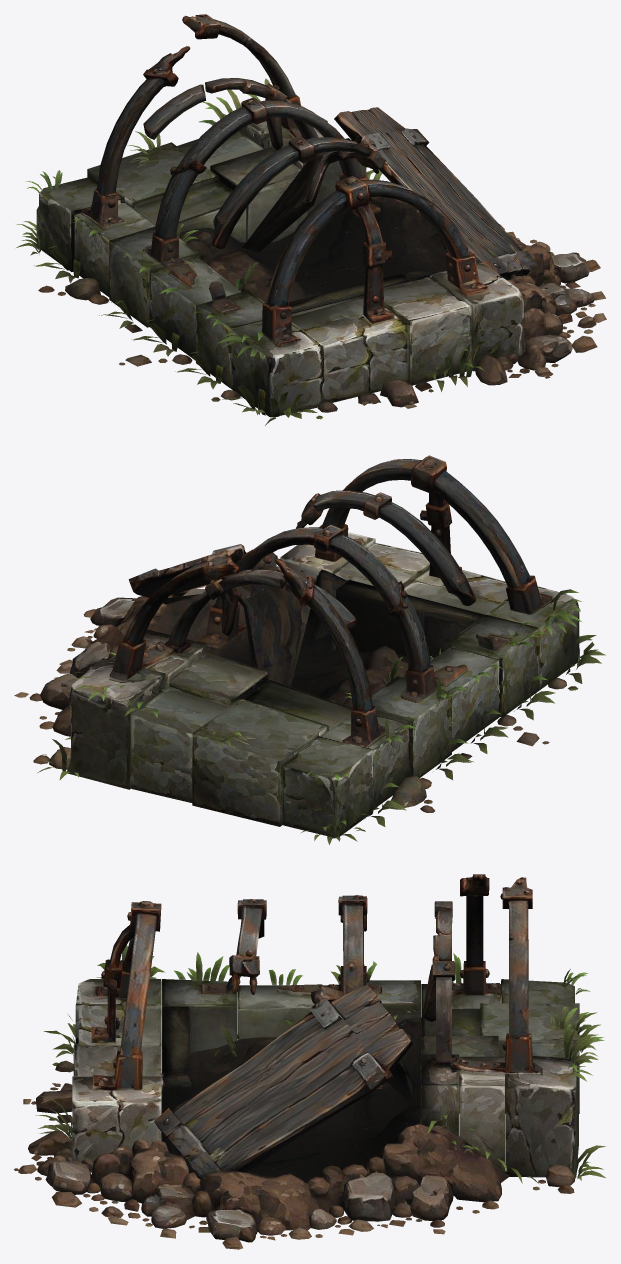
File: act1-a16-5-unquiet-grave.glb
3 renders of one model, top to bottom at view 1: azimuth 30°, elevation 25°; view 2: azimuth 150°, elevation 25°; view 3: azimuth 270°, elevation 25°, orthographic. The views are drawn at different scales.
Parts seen in each view (by area): view 1: act1-a16-5-unquiet-grave; view 2: act1-a16-5-unquiet-grave; view 3: act1-a16-5-unquiet-grave.
Boxes of the visible parts, x1,y1,x2,y2 form: act1-a16-5-unquiet-grave: (16,14,606,425); act1-a16-5-unquiet-grave: (14,455,605,844); act1-a16-5-unquiet-grave: (14,874,606,1249).
Bounding box in the file's own units: 2.48 × 1.15 × 2.6.
Materials: 1 (1 with a texture image).
